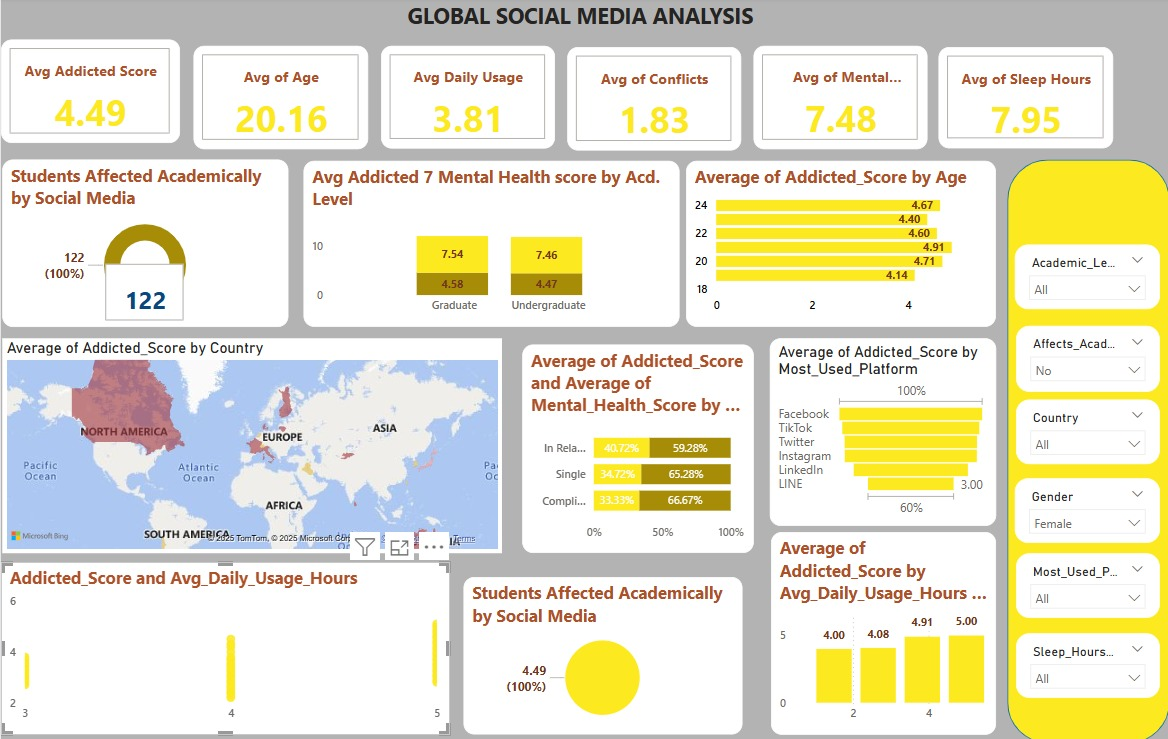

The page's visual inventory and layout, read from the dashboard file:
{"tool":"powerbi","page":{"name":"Global Analysis","canvas":[1300,830],"ordinal":0},"visuals":[{"type":"shape","box":[1119.6,180.8,180.8,649.5],"z":0},{"type":"cardVisual","fields":{"Data":["Avg(Students Social Media Addiction.Addicted_Score)"]},"box":[0,47.3,198.9,115.4],"z":1000},{"type":"cardVisual","fields":{"Data":["Avg(Students Social Media Addiction.Age)"]},"box":[214.2,54.2,194.7,115.4],"z":2000},{"type":"cardVisual","fields":{"Data":["Avg(Students Social Media Addiction.Avg_Daily_Usage_Hours)"]},"box":[422.8,54.2,193.3,114],"z":3000},{"type":"cardVisual","fields":{"Data":["Avg(Students Social Media Addiction.Conflicts_Over_Social_Media)"]},"box":[630,55.6,193.3,115.4],"z":4000},{"type":"cardVisual","fields":{"Data":["Avg(Students Social Media Addiction.Mental_Health_Score)"]},"box":[837.2,54.2,193.3,115.4],"z":5000},{"type":"cardVisual","fields":{"Data":["Avg(Students Social Media Addiction.Sleep_Hours_Per_Night)"]},"box":[1043.1,55.6,194.7,112.7],"z":6000},{"type":"columnChart","title":"Avg Addicted 7 Mental Health score by Acd. Level","fields":{"Category":["Students Social Media Addiction.Academic_Level"],"Y":["Avg(Students Social Media Addiction.Addicted_Score)","Avg(Students Social Media Addiction.Mental_Health_Score)"]},"box":[336.6,182.2,418.6,185],"z":7000},{"type":"donutChart","title":"Students Affected Academically by Social Media","fields":{"Category":["Students Social Media Addiction.Affects_Academic_Performance"],"Y":["CountNonNull(Students Social Media Addiction.Student_ID)"]},"box":[1.4,180.8,318.5,186.4],"z":8000},{"type":"cardVisual","fields":{"Data":["Count(Students Social Media Addiction.Student_ID)"]},"box":[100.1,292.1,97.4,75.1],"z":9000},{"type":"clusteredBarChart","fields":{"Category":["Students Social Media Addiction.Age"],"Y":["Avg(Students Social Media Addiction.Addicted_Score)"]},"box":[762.1,182.2,344.9,185],"z":10000},{"type":"slicer","fields":{"Values":["Students Social Media Addiction.Academic_Level"]},"box":[1127.9,275.4,161.3,72.3],"z":11000},{"type":"slicer","fields":{"Values":["Students Social Media Addiction.Affects_Academic_Performance"]},"box":[1129.3,365.8,159.9,73.7],"z":12000},{"type":"slicer","fields":{"Values":["Students Social Media Addiction.Country"]},"box":[1129.3,447.8,159.9,72.3],"z":13000},{"type":"slicer","fields":{"Values":["Students Social Media Addiction.Gender"]},"box":[1127.9,535.4,161.3,72.3],"z":14000},{"type":"slicer","fields":{"Values":["Students Social Media Addiction.Most_Used_Platform"]},"box":[1129.3,618.9,159.9,72.3],"z":15000},{"type":"filledMap","fields":{"Category":["Students Social Media Addiction.Country"]},"box":[1.4,379.7,556.3,239.2],"z":16000},{"type":"pieChart","title":"Students Affected Academically by Social Media","fields":{"Category":["Students Social Media Addiction.Gender"],"Y":["Avg(Students Social Media Addiction.Addicted_Score)"]},"box":[514.6,645.3,310.1,175.2],"z":17000},{"type":"funnel","fields":{"Category":["Students Social Media Addiction.Most_Used_Platform"],"Y":["Avg(Students Social Media Addiction.Addicted_Score)"]},"box":[855.3,379.7,251.7,208.6],"z":18000},{"type":"hundredPercentStackedBarChart","fields":{"Category":["Students Social Media Addiction.Relationship_Status"],"Y":["Avg(Students Social Media Addiction.Addicted_Score)","Avg(Students Social Media Addiction.Mental_Health_Score)"]},"box":[579.9,386.6,257.3,232.3],"z":19000},{"type":"lineStackedColumnComboChart","fields":{"Y":["Avg(Students Social Media Addiction.Addicted_Score)"],"Category":["Students Social Media Addiction.Avg_Daily_Usage_Hours (bins)"]},"box":[856.7,595.2,250.3,225.3],"z":20000},{"type":"scatterChart","fields":{"X":["Students Social Media Addiction.Addicted_Score"],"Y":["Students Social Media Addiction.Avg_Daily_Usage_Hours"]},"box":[0,628.6,499.3,191.9],"z":21000},{"type":"textbox","box":[0,0,1289.2,47.3],"z":22000},{"type":"slicer","fields":{"Values":["Students Social Media Addiction.Sleep_Hours_Per_Night"]},"box":[1129.3,707.9,159.9,72.3],"z":23000}]}

Visuals, with their boxes in screenshot pixels (x1, y1, x2, y2), scaled from the page's 1300x830 canvas onto the 1168x739 screenshot:
shape: <box>1006,161,1167,738</box>
cardVisual - Avg(Students Social Media Addiction.Addicted_Score): <box>0,42,179,145</box>
cardVisual - Avg(Students Social Media Addiction.Age): <box>192,48,367,151</box>
cardVisual - Avg(Students Social Media Addiction.Avg_Daily_Usage_Hours): <box>380,48,554,150</box>
cardVisual - Avg(Students Social Media Addiction.Conflicts_Over_Social_Media): <box>566,50,740,152</box>
cardVisual - Avg(Students Social Media Addiction.Mental_Health_Score): <box>752,48,926,151</box>
cardVisual - Avg(Students Social Media Addiction.Sleep_Hours_Per_Night): <box>937,50,1112,150</box>
"Avg Addicted 7 Mental Health score by Acd. Level" columnChart: <box>302,162,679,327</box>
"Students Affected Academically by Social Media" donutChart: <box>1,161,287,327</box>
cardVisual - Count(Students Social Media Addiction.Student_ID): <box>90,260,177,327</box>
clusteredBarChart - Students Social Media Addiction.Age x Avg(Students Social Media Addiction.Addicted_Score): <box>685,162,995,327</box>
slicer - Students Social Media Addiction.Academic_Level: <box>1013,245,1158,310</box>
slicer - Students Social Media Addiction.Affects_Academic_Performance: <box>1015,326,1158,391</box>
slicer - Students Social Media Addiction.Country: <box>1015,399,1158,463</box>
slicer - Students Social Media Addiction.Gender: <box>1013,477,1158,541</box>
slicer - Students Social Media Addiction.Most_Used_Platform: <box>1015,551,1158,615</box>
filledMap - Students Social Media Addiction.Country: <box>1,338,501,551</box>
"Students Affected Academically by Social Media" pieChart: <box>462,575,741,731</box>
funnel - Students Social Media Addiction.Most_Used_Platform x Avg(Students Social Media Addiction.Addicted_Score): <box>768,338,995,524</box>
hundredPercentStackedBarChart - Students Social Media Addiction.Relationship_Status x Avg(Students Social Media Addiction.Addicted_Score): <box>521,344,752,551</box>
lineStackedColumnComboChart - Avg(Students Social Media Addiction.Addicted_Score) x Students Social Media Addiction.Avg_Daily_Usage_Hours (bins): <box>770,530,995,731</box>
scatterChart - Students Social Media Addiction.Addicted_Score x Students Social Media Addiction.Avg_Daily_Usage_Hours: <box>0,560,449,731</box>
textbox: <box>0,0,1158,42</box>
slicer - Students Social Media Addiction.Sleep_Hours_Per_Night: <box>1015,630,1158,695</box>
